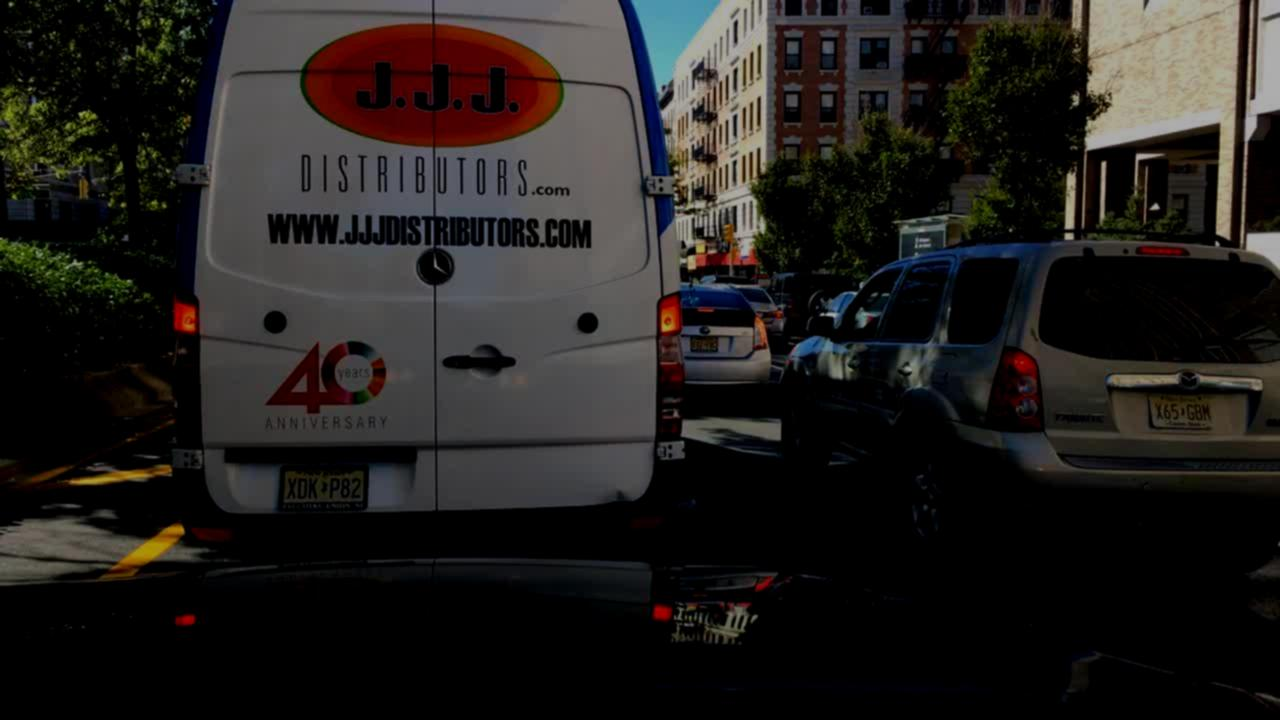Mazda: (1178, 368, 1202, 390)
Mercedes: (404, 244, 471, 290)
